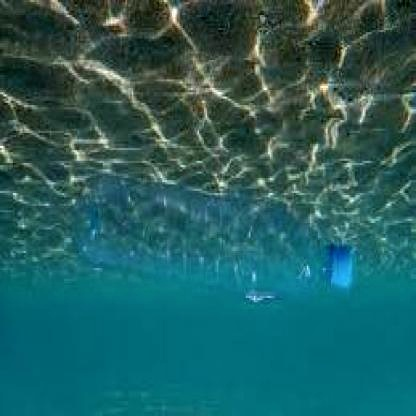pbottle: (69, 172, 357, 304)
